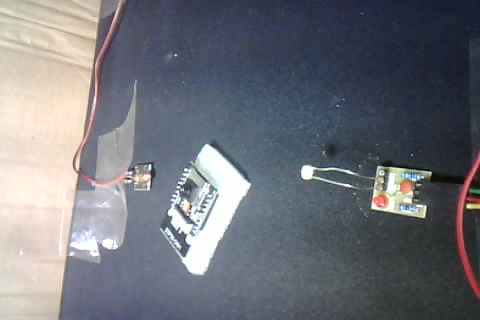esp32: (158, 143, 253, 278)
